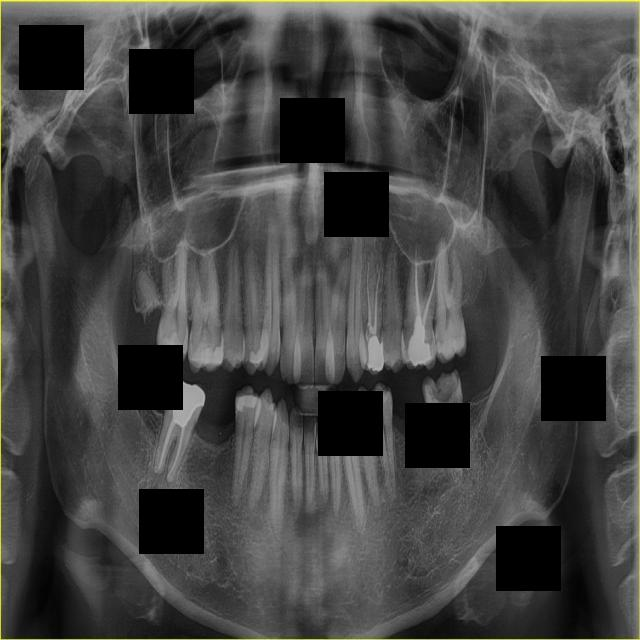72: (131, 261, 166, 319)
74: (412, 251, 438, 328), (362, 261, 382, 338), (450, 408, 473, 470), (439, 412, 462, 471), (154, 415, 178, 470), (167, 426, 187, 481)
NucleOSS Implant: (151, 369, 211, 429), (398, 314, 434, 369), (365, 334, 386, 373)
Sterngold Implant: (421, 371, 470, 427), (434, 328, 442, 348), (429, 333, 437, 349), (217, 322, 223, 343)
Straumann Implant: (191, 331, 224, 374), (155, 330, 191, 364), (229, 383, 263, 415), (248, 348, 266, 363)
